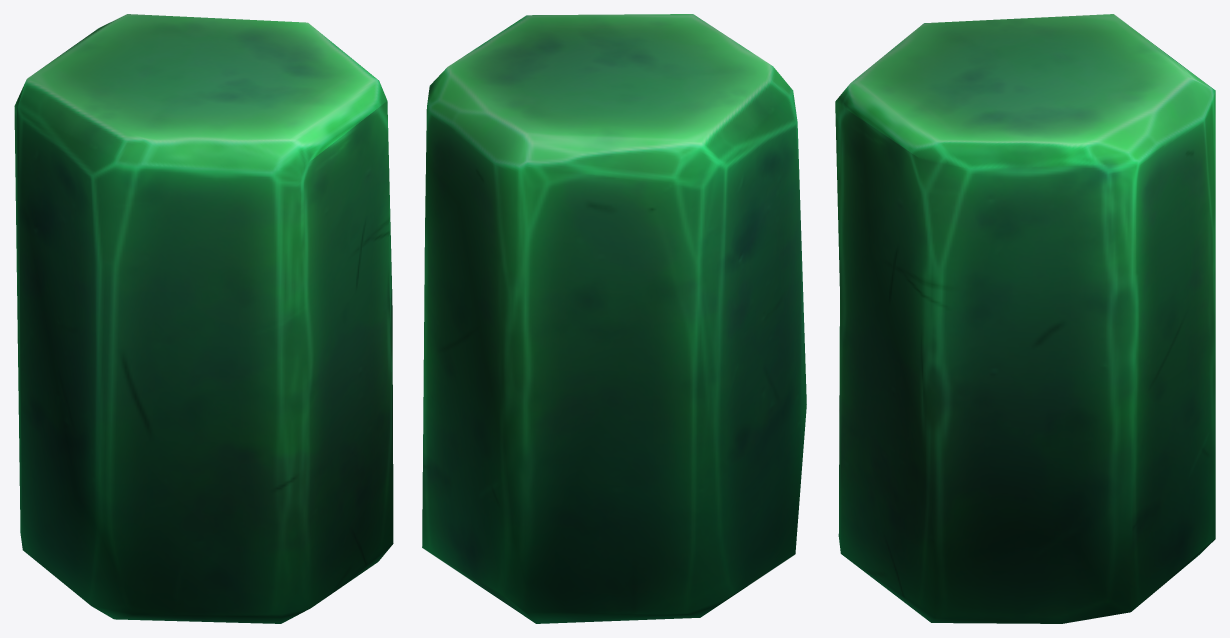
File: SM_Gem_Emerald_003.fbx
The picture shows the model from 3 angles, left to right: view 1: azimuth 30°, elevation 25°; view 2: azimuth 150°, elevation 25°; view 3: azimuth 270°, elevation 25°; orthographic projection.
Parts seen in each view (by area): view 1: SM_Gem_Emerald_003; view 2: SM_Gem_Emerald_003; view 3: SM_Gem_Emerald_003.
Boxes of the visible parts, x1=… form: SM_Gem_Emerald_003: x1=14, y1=14, x2=393, y2=623; SM_Gem_Emerald_003: x1=422, y1=14, x2=806, y2=623; SM_Gem_Emerald_003: x1=835, y1=14, x2=1215, y2=623.
Size of the model in its own units: 26.36 by 41.25 by 29.26.
